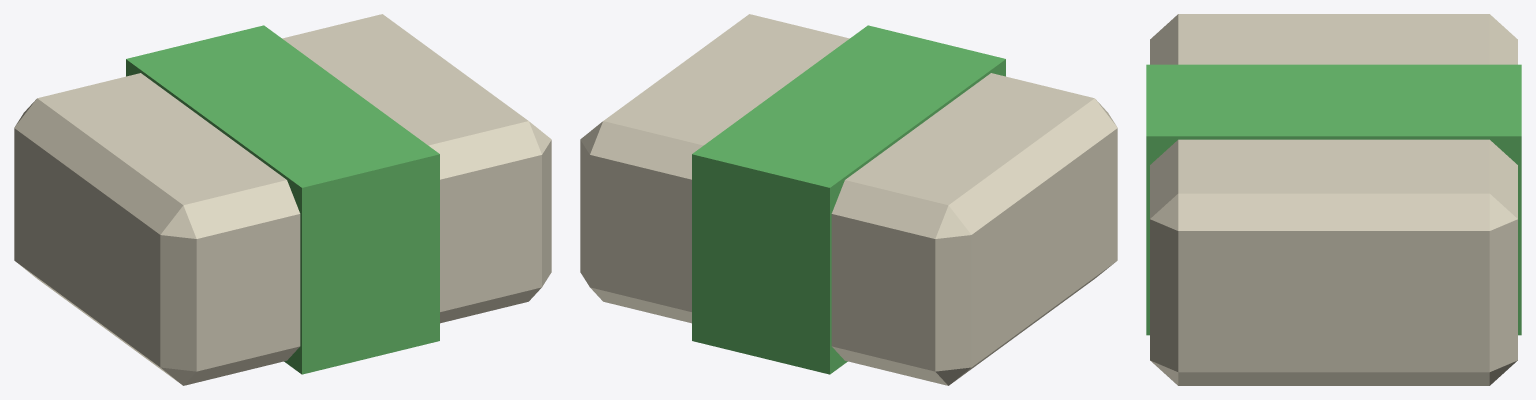
File: Peynir_Model.fbx
3 views of the same model, side by side, from view 1: azimuth 30°, elevation 25°; view 2: azimuth 150°, elevation 25°; view 3: azimuth 270°, elevation 25° (orthographic). The views are drawn at different scales.
Parts seen in each view (by area): view 1: Peynir_Model; view 2: Peynir_Model; view 3: Peynir_Model.
Part boxes in pixels (<box>): Peynir_Model: <box>14,14,551,385</box>; Peynir_Model: <box>580,14,1117,385</box>; Peynir_Model: <box>1146,14,1521,385</box>.
Bounding box in the file's own units: 34 × 15.5 × 26.5.
